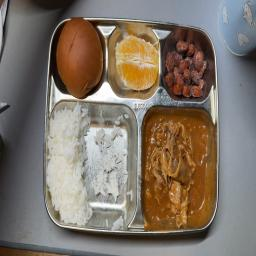100_bread: (55, 16, 102, 96)
100_nuts: (162, 32, 207, 96)
100_orange: (110, 28, 159, 91)
50_beef: (146, 114, 208, 227)
50_rice: (49, 107, 129, 225)
